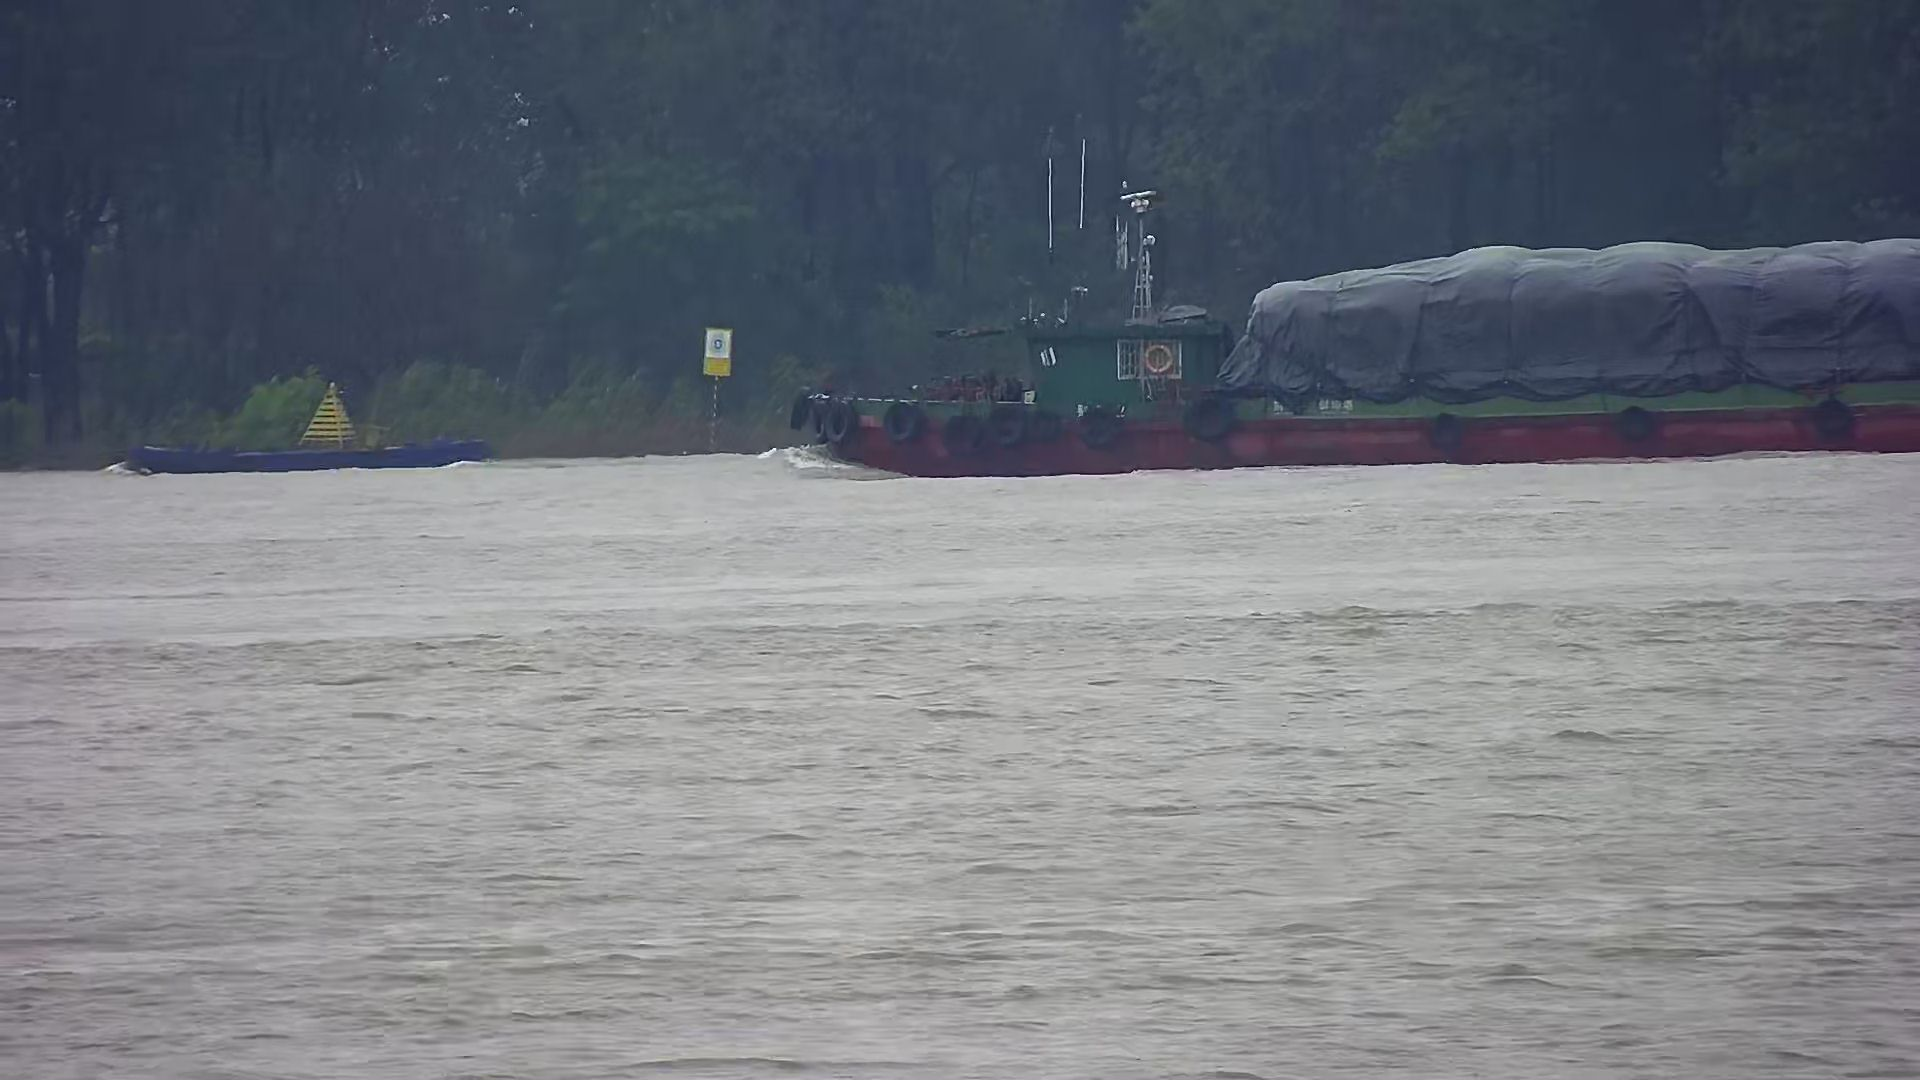boat: (123, 386, 491, 468)
mast: (699, 326, 732, 454)
ship: (790, 171, 1920, 477)
